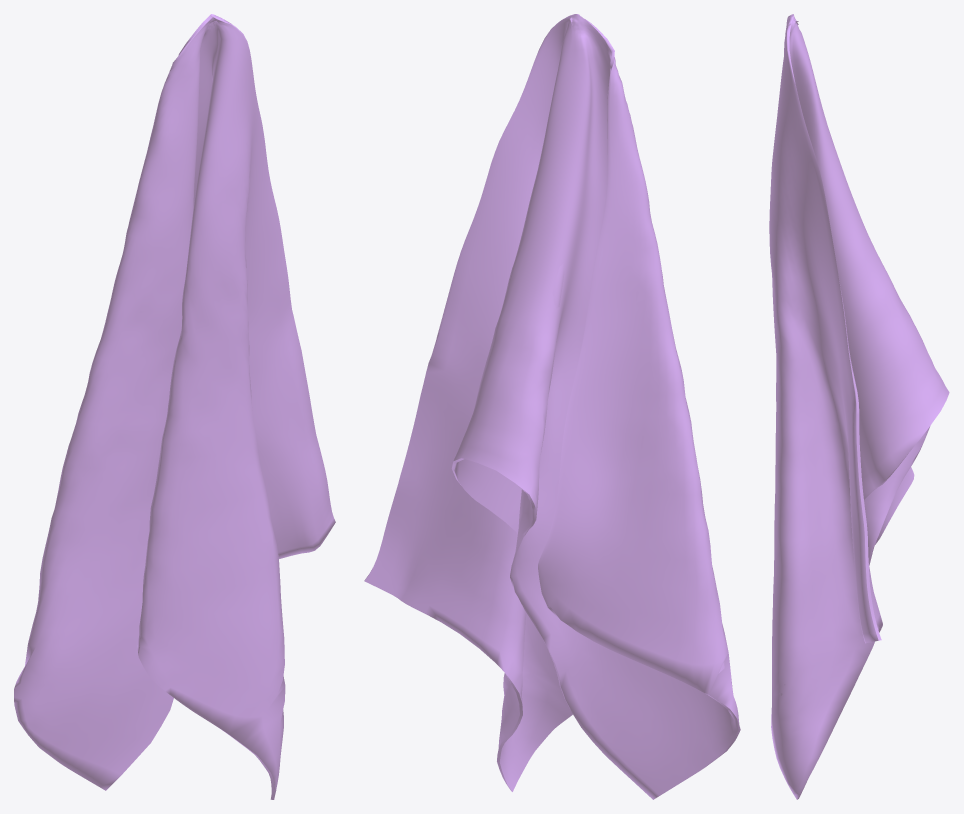
File: Napkin.fbx
3 renders of one model, left to right at view 1: azimuth 30°, elevation 25°; view 2: azimuth 150°, elevation 25°; view 3: azimuth 270°, elevation 25°, orthographic. The views are drawn at different scales.
Parts seen in each view (by area): view 1: 123; view 2: 123; view 3: 123.
Boxes of the visible parts, box(x1,y1,x2,y2) form: 123: box(14, 14, 335, 799); 123: box(364, 14, 740, 799); 123: box(769, 14, 949, 799).
Bounding box in the file's own units: 175 × 384 × 82.9.
